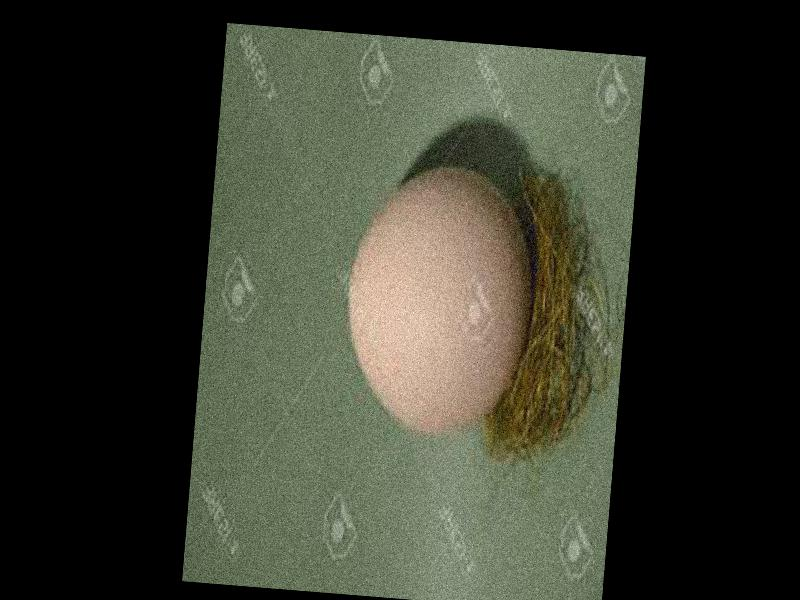Eggs: (337, 159, 538, 439)
